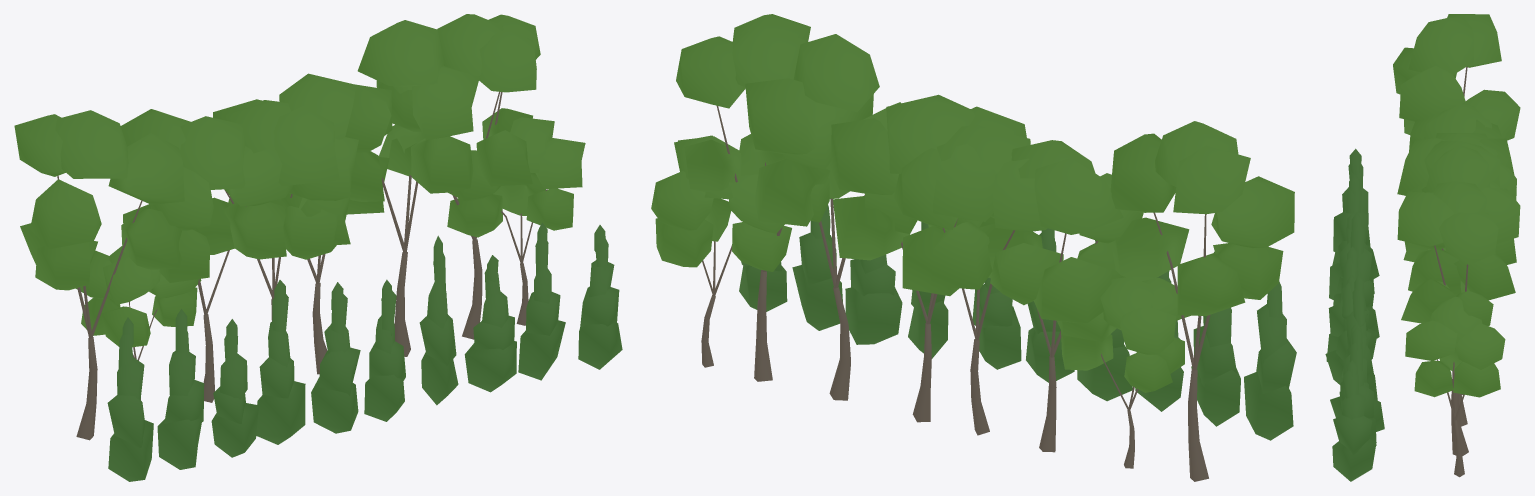
Rendered from Blender_Shelterbelt_1_Far.glb.
The picture shows the model from 3 angles, left to right: view 1: azimuth 30°, elevation 25°; view 2: azimuth 150°, elevation 25°; view 3: azimuth 270°, elevation 25°; orthographic projection. The views are drawn at different scales.
Visible parts, largest first — view 1: Blender_Shelterbelt_1_Far; view 2: Blender_Shelterbelt_1_Far; view 3: Blender_Shelterbelt_1_Far.
Boxes of the visible parts, <box> form: Blender_Shelterbelt_1_Far: <box>14,14,622,481</box>; Blender_Shelterbelt_1_Far: <box>651,14,1296,481</box>; Blender_Shelterbelt_1_Far: <box>1325,14,1520,481</box>.
Bounding box in the file's own units: 32.02 × 18.58 × 11.59.
